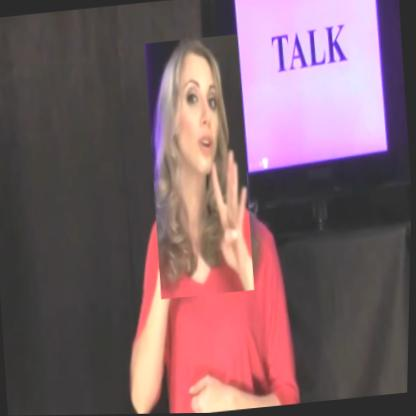Talk: (140, 35, 260, 300)
